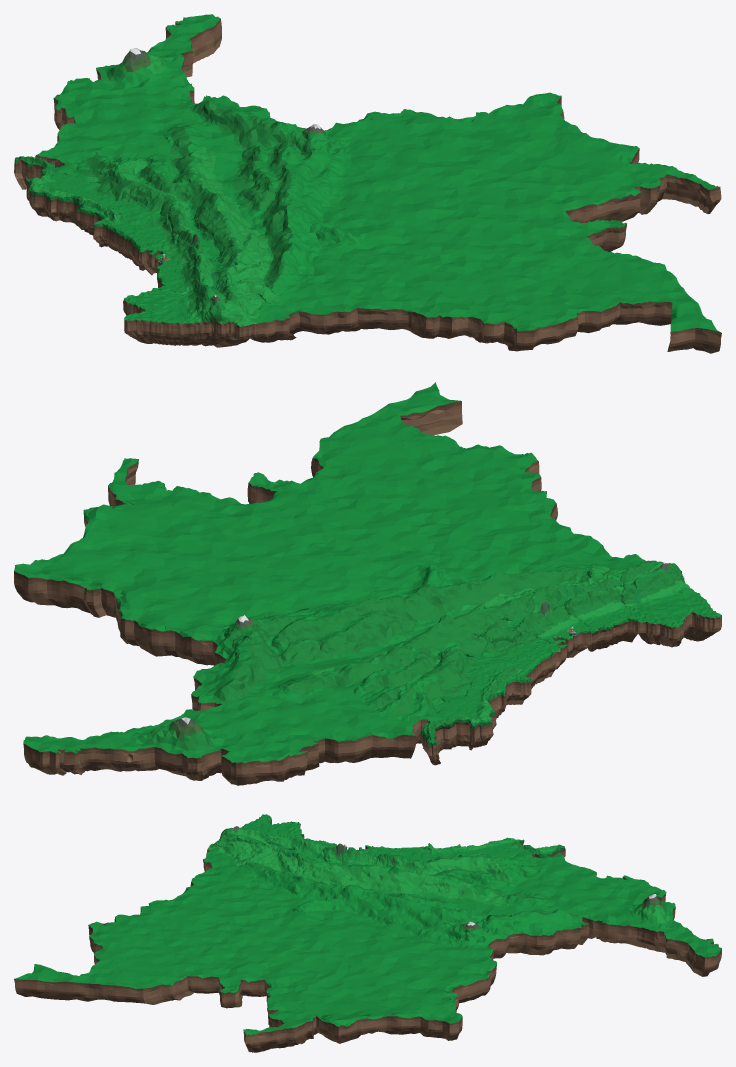
The model's file is colombia.glb.
3 views of the same model, one above another, from view 1: azimuth 30°, elevation 25°; view 2: azimuth 150°, elevation 25°; view 3: azimuth 270°, elevation 25° (orthographic). The views are drawn at different scales.
Parts seen in each view (by area): view 1: Object_35, Object_37, Object_29, Object_43, Object_36, Object_32, Object_19, Object_24, Object_27, Object_39, Object_21, Object_33 (+8 smaller); view 2: Object_35, Object_29, Object_37, Object_43, Object_36, Object_32, Object_19, Object_27, Object_39, Object_24, Object_38, Object_28 (+7 smaller); view 3: Object_35, Object_37, Object_43, Object_24, Object_36, Object_32, Object_19, Object_39, Object_21, Object_29, Object_22, Object_38 (+3 smaller).
Boxes of the visible parts, x1,y1,x2,y2 form: Object_35: [49, 20, 705, 326]; Object_37: [46, 17, 716, 333]; Object_29: [75, 62, 316, 289]; Object_43: [35, 19, 721, 353]; Object_36: [36, 14, 720, 332]; Object_32: [45, 21, 721, 346]; Object_19: [54, 25, 721, 343]; Object_24: [118, 54, 274, 318]; Object_27: [19, 157, 242, 324]; Object_39: [42, 163, 169, 251]; Object_21: [28, 156, 286, 303]; Object_33: [14, 163, 258, 336]; Object_35: [25, 392, 645, 760]; Object_29: [178, 569, 588, 750]; Object_37: [17, 385, 636, 762]; Object_43: [14, 401, 608, 785]; Object_36: [14, 382, 645, 763]; Object_32: [14, 405, 557, 777]; Object_19: [14, 408, 557, 774]; Object_27: [429, 560, 685, 739]; Object_39: [422, 638, 560, 734]; Object_24: [146, 569, 623, 746]; Object_38: [630, 584, 721, 627]; Object_28: [471, 604, 572, 643]; Object_35: [35, 853, 715, 1024]; Object_37: [34, 851, 718, 1026]; Object_43: [14, 853, 721, 1052]; Object_24: [215, 840, 669, 923]; Object_36: [14, 849, 721, 1035]; Object_32: [14, 855, 721, 1045]; Object_19: [15, 864, 721, 1044]; Object_39: [366, 840, 551, 862]; Object_21: [234, 836, 556, 871]; Object_29: [250, 855, 667, 932]; Object_22: [323, 848, 403, 867]; Object_38: [240, 814, 303, 837].
Size of the model in its own units: 24.61 by 2.08 by 33.38.
